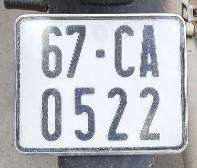0: (35, 86, 65, 144)
2: (133, 83, 166, 146), (100, 79, 131, 145)
5: (69, 79, 101, 144)
6: (38, 25, 65, 81)
7: (62, 22, 90, 80)
A: (138, 22, 165, 80)
C: (108, 22, 139, 79)
